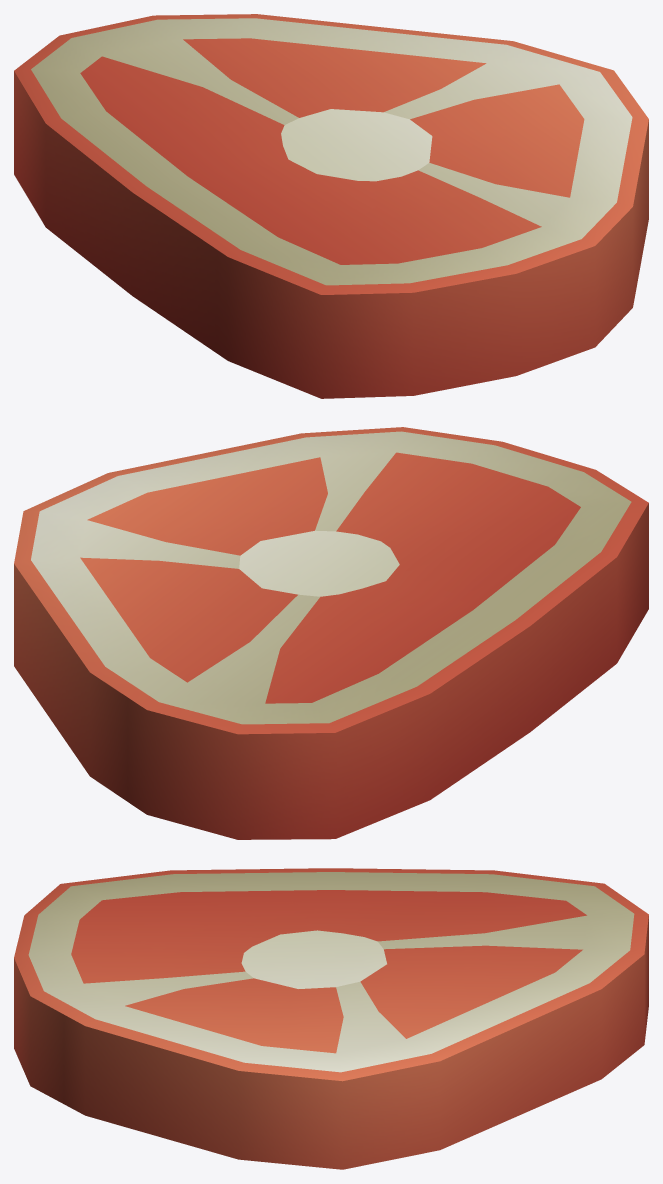
The model's file is Ham_Slice_01.glb.
The picture shows the model from 3 angles, top to bottom: view 1: azimuth 30°, elevation 25°; view 2: azimuth 150°, elevation 25°; view 3: azimuth 270°, elevation 25°; orthographic projection. The views are drawn at different scales.
Parts seen in each view (by area): view 1: Ham_Slice_01; view 2: Ham_Slice_01; view 3: Ham_Slice_01.
Part boxes in pixels (bbox=[...]): Ham_Slice_01: bbox=[14, 14, 648, 398]; Ham_Slice_01: bbox=[14, 427, 648, 839]; Ham_Slice_01: bbox=[14, 868, 648, 1169].
Size of the model in its own units: 0.4811 by 0.1063 by 0.6109.
1 material, 1 textured.
